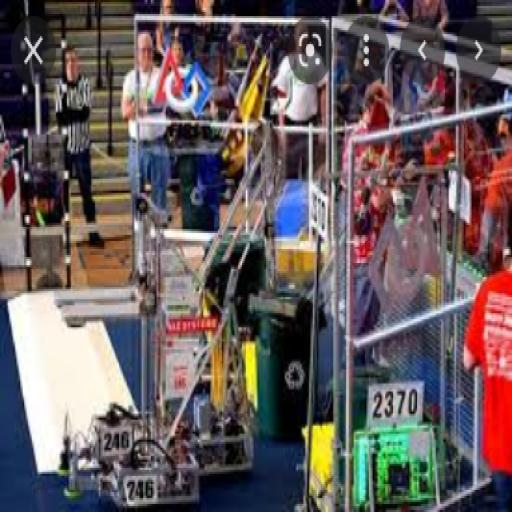robot: (66, 118, 256, 490), (311, 118, 452, 512)
